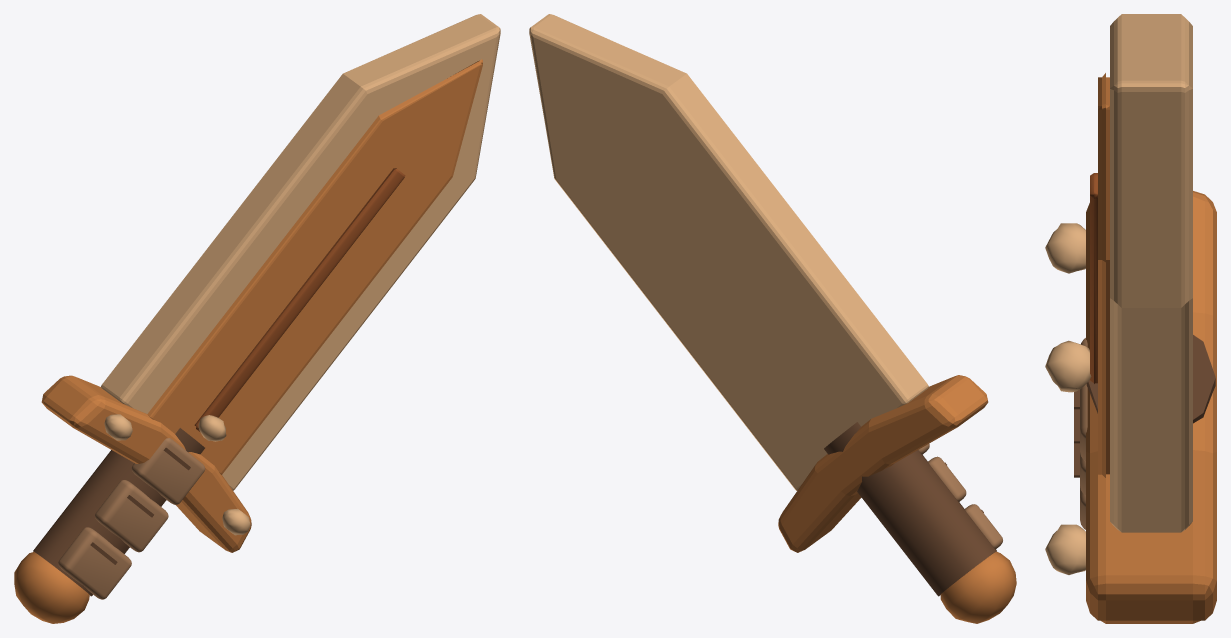
The model's file is coppersword.glb.
3 views of the same model, side by side, from view 1: azimuth 30°, elevation 25°; view 2: azimuth 150°, elevation 25°; view 3: azimuth 270°, elevation 25° (orthographic). The views are drawn at different scales.
Parts seen in each view (by area): view 1: _copper_edge, _bark_fissure, _copper_guard, _copper_rivet; view 2: _copper_edge, _copper_guard, _bark_fissure; view 3: _copper_edge, _copper_guard, _copper_rivet, _bark_fissure.
Boxes of the visible parts, bbox=[...] form: _copper_edge: bbox=[101, 14, 500, 490]; _bark_fissure: bbox=[33, 428, 205, 599]; _copper_guard: bbox=[14, 375, 251, 623]; _copper_rivet: bbox=[104, 414, 250, 535]; _copper_edge: bbox=[529, 14, 928, 490]; _copper_guard: bbox=[778, 375, 1016, 623]; _bark_fissure: bbox=[824, 422, 1002, 596]; _copper_edge: bbox=[1090, 14, 1192, 532]; _copper_guard: bbox=[1086, 191, 1216, 623]; _copper_rivet: bbox=[1045, 223, 1091, 574]; _bark_fissure: bbox=[1074, 335, 1215, 529].
Bounding box in the file's own units: 0.848 × 0.8454 × 0.1598.
